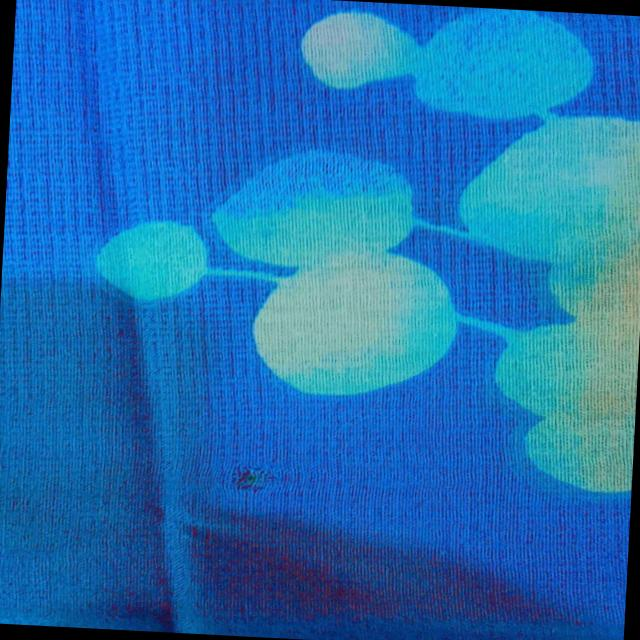cut: (188, 449, 294, 501)
